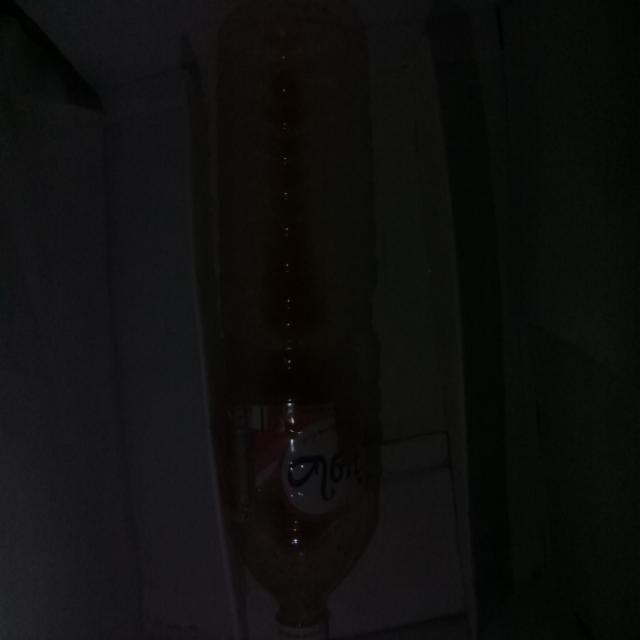Anorganik: (215, 5, 402, 640)
